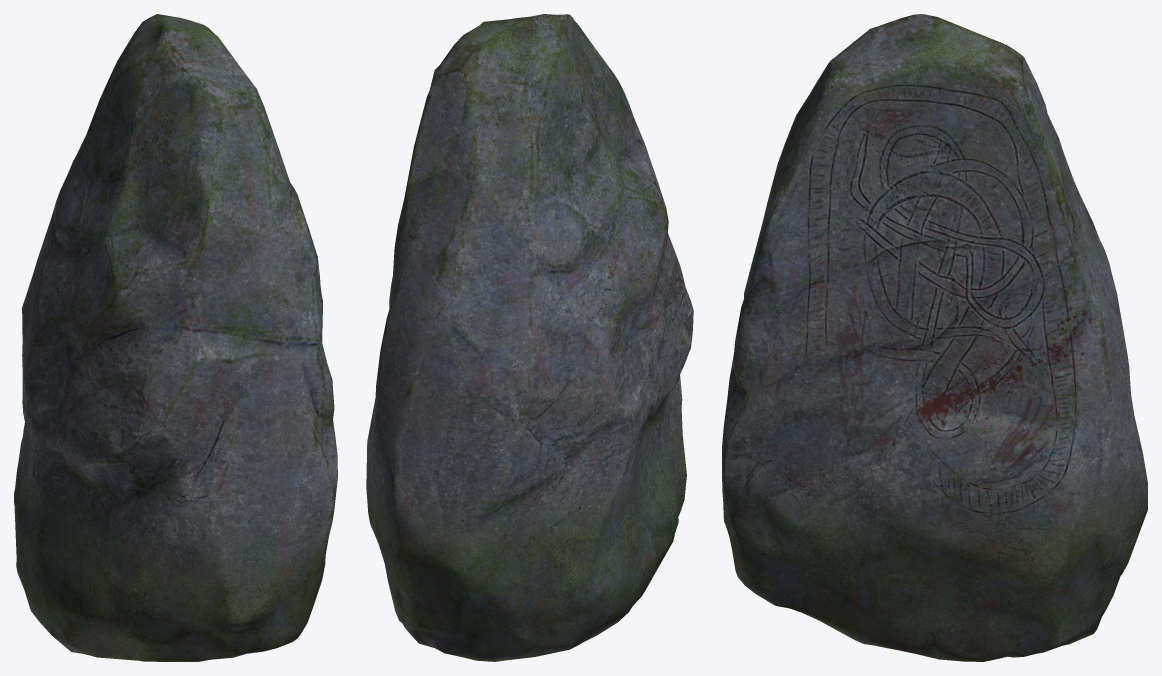
File: SM_RockTotem.fbx
The picture shows the model from 3 angles, left to right: view 1: azimuth 30°, elevation 25°; view 2: azimuth 150°, elevation 25°; view 3: azimuth 270°, elevation 25°; orthographic projection. The views are drawn at different scales.
Visible parts, largest first — view 1: SM_RockTotem_LOD0; view 2: SM_RockTotem_LOD0; view 3: SM_RockTotem_LOD0.
Boxes of the visible parts, bbox=[...] form: SM_RockTotem_LOD0: bbox=[14, 14, 337, 661]; SM_RockTotem_LOD0: bbox=[366, 14, 693, 661]; SM_RockTotem_LOD0: bbox=[722, 14, 1147, 661].
Size of the model in its own units: 139 by 225 by 363.
